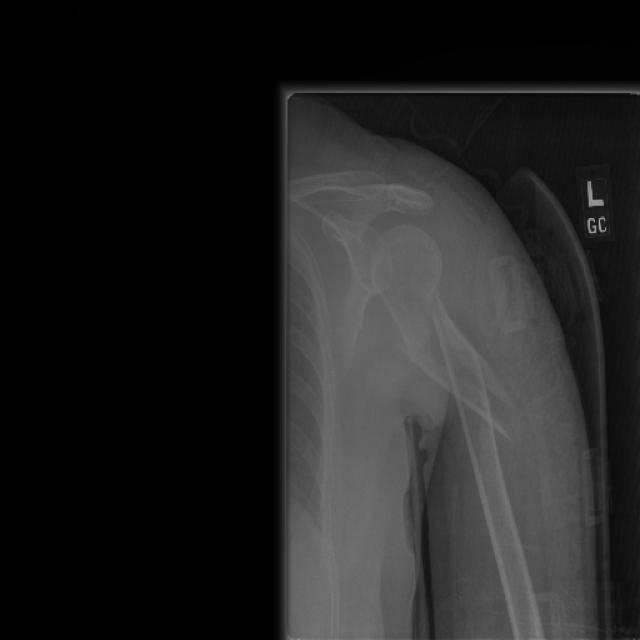shoulder fracture: (406, 272, 548, 477)
